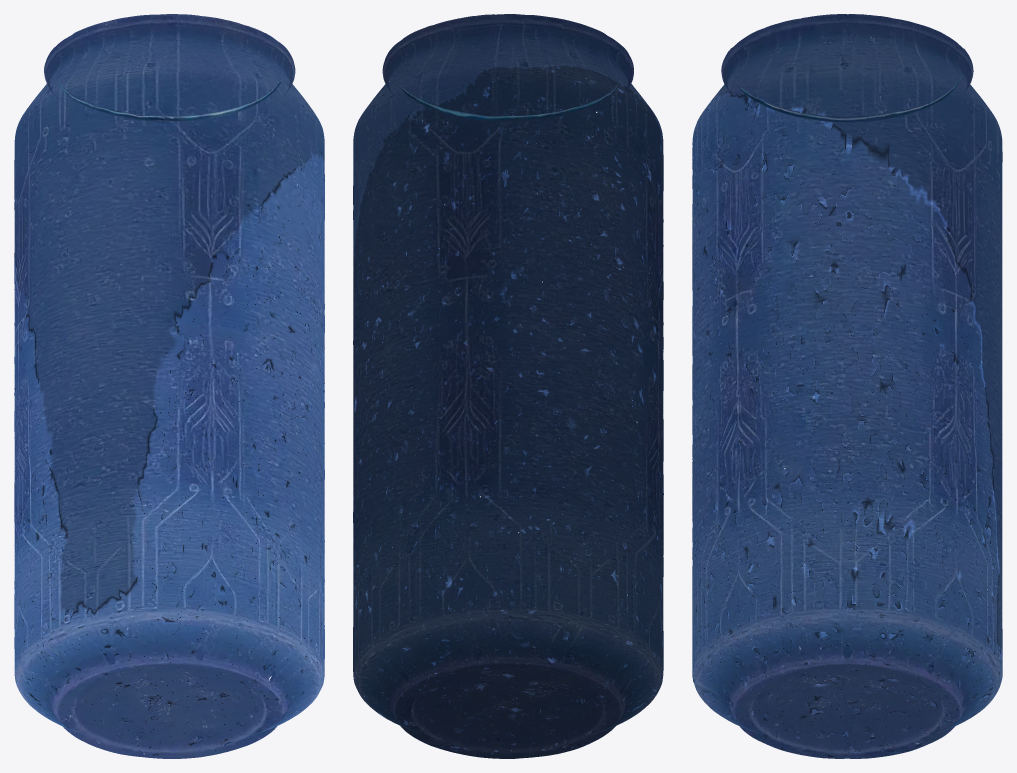
Rendered from neon_berry_ultra.glb.
3 views of the same model, side by side, from view 1: azimuth 30°, elevation 25°; view 2: azimuth 150°, elevation 25°; view 3: azimuth 270°, elevation 25° (orthographic).
Visible parts, largest first — view 1: tripo_node_f071f5a7-8a02-4f14-86f2-6db9a9d8b2d0; view 2: tripo_node_f071f5a7-8a02-4f14-86f2-6db9a9d8b2d0; view 3: tripo_node_f071f5a7-8a02-4f14-86f2-6db9a9d8b2d0.
Boxes of the visible parts, <box> form: tripo_node_f071f5a7-8a02-4f14-86f2-6db9a9d8b2d0: <box>14,14,324,758</box>; tripo_node_f071f5a7-8a02-4f14-86f2-6db9a9d8b2d0: <box>353,14,663,758</box>; tripo_node_f071f5a7-8a02-4f14-86f2-6db9a9d8b2d0: <box>692,14,1002,758</box>.
Size of the model in its own units: 0.4347 by 0.9999 by 0.4345.
1 material, 1 textured.
